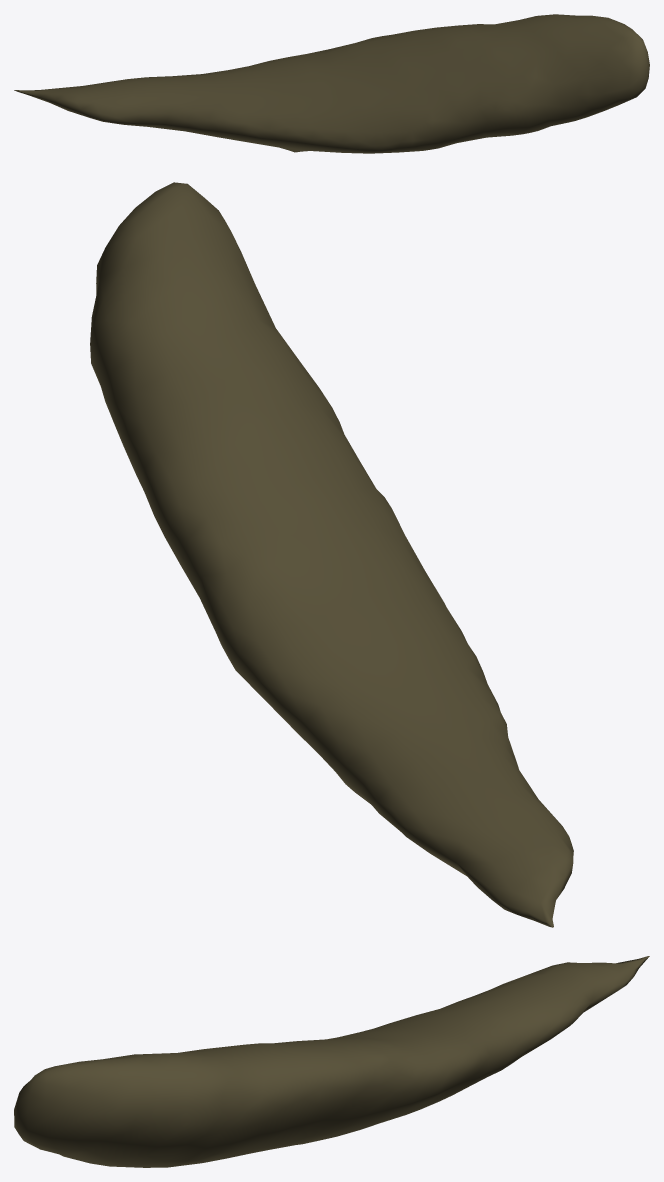
Rendered from segmentations_rib_left_12.obj.
3 renders of one model, top to bottom at view 1: azimuth 30°, elevation 25°; view 2: azimuth 150°, elevation 25°; view 3: azimuth 270°, elevation 25°, orthographic. The views are drawn at different scales.
Parts seen in each view (by area): view 1: grp1; view 2: grp1; view 3: grp1.
Part boxes in pixels (x1=…): grp1: x1=14, y1=14, x2=649, y2=153; grp1: x1=90, y1=182, x2=573, y2=927; grp1: x1=14, y1=956, x2=649, y2=1167.
Size of the model in its own units: 21.15 by 6.9 by 20.
